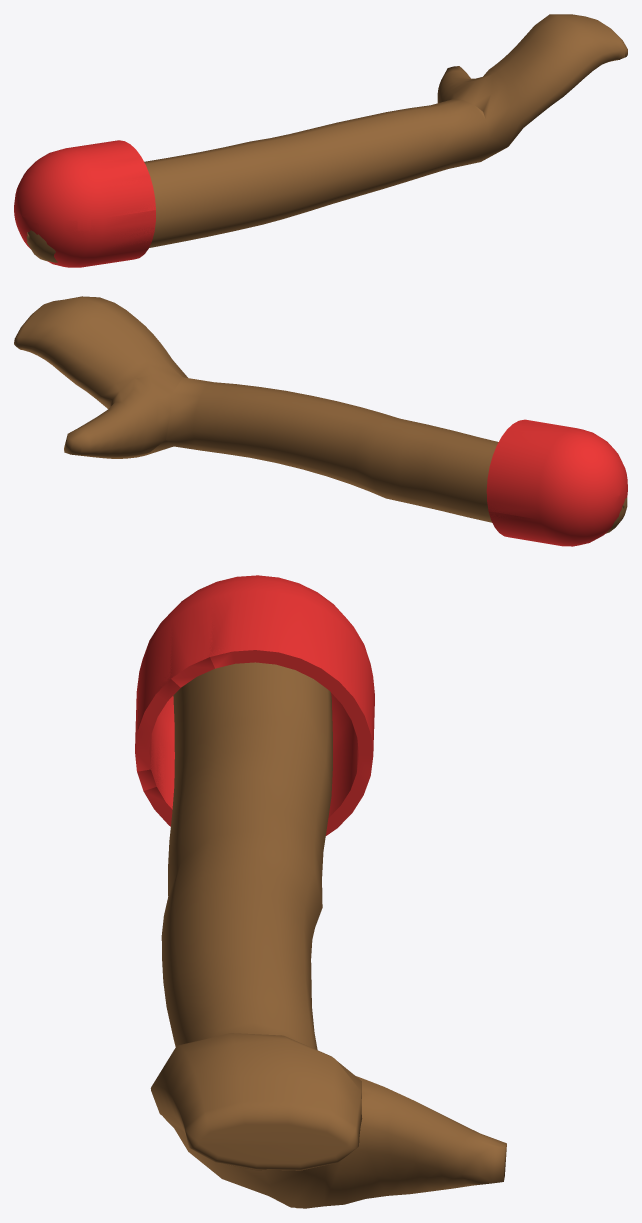
The model's file is AemliaRightArm.fbx.
The picture shows the model from 3 angles, top to bottom: view 1: azimuth 30°, elevation 25°; view 2: azimuth 150°, elevation 25°; view 3: azimuth 270°, elevation 25°; orthographic projection. The views are drawn at different scales.
Visible parts, largest first — view 1: BézierCurve.001; view 2: BézierCurve.001; view 3: BézierCurve.001.
Boxes of the visible parts, x1,y1,x2,y2 form: BézierCurve.001: [14, 14, 627, 267]; BézierCurve.001: [14, 296, 627, 546]; BézierCurve.001: [135, 575, 506, 1208].
Size of the model in its own units: 334 by 67.36 by 91.85.
